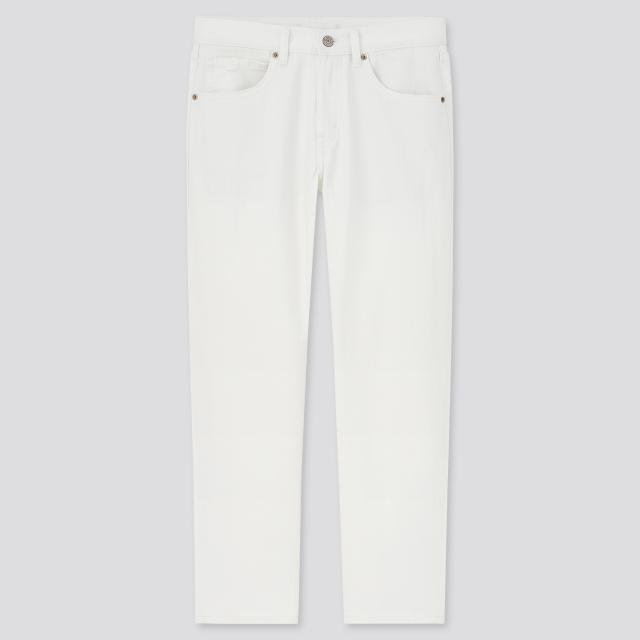long-pants: (187, 18, 459, 632)
